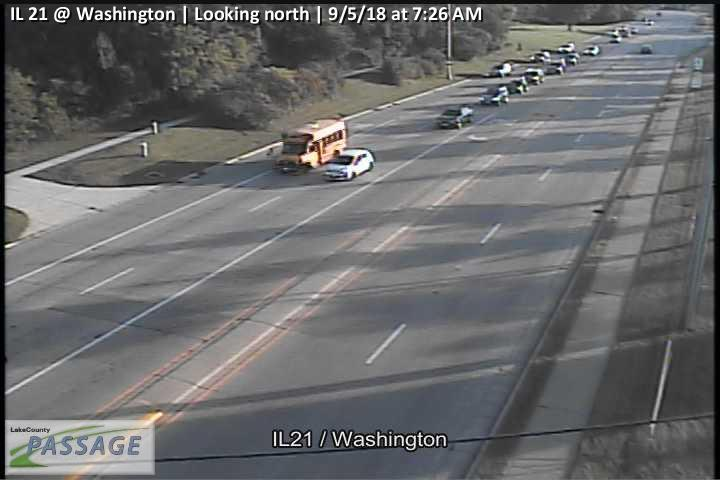Bus: (272, 117, 347, 173)
SUV: (479, 84, 509, 107), (523, 67, 545, 85), (488, 62, 512, 77)
Sedan: (322, 148, 375, 181), (436, 105, 475, 128), (508, 78, 529, 94), (547, 59, 566, 74), (583, 44, 600, 56), (565, 52, 580, 65)
